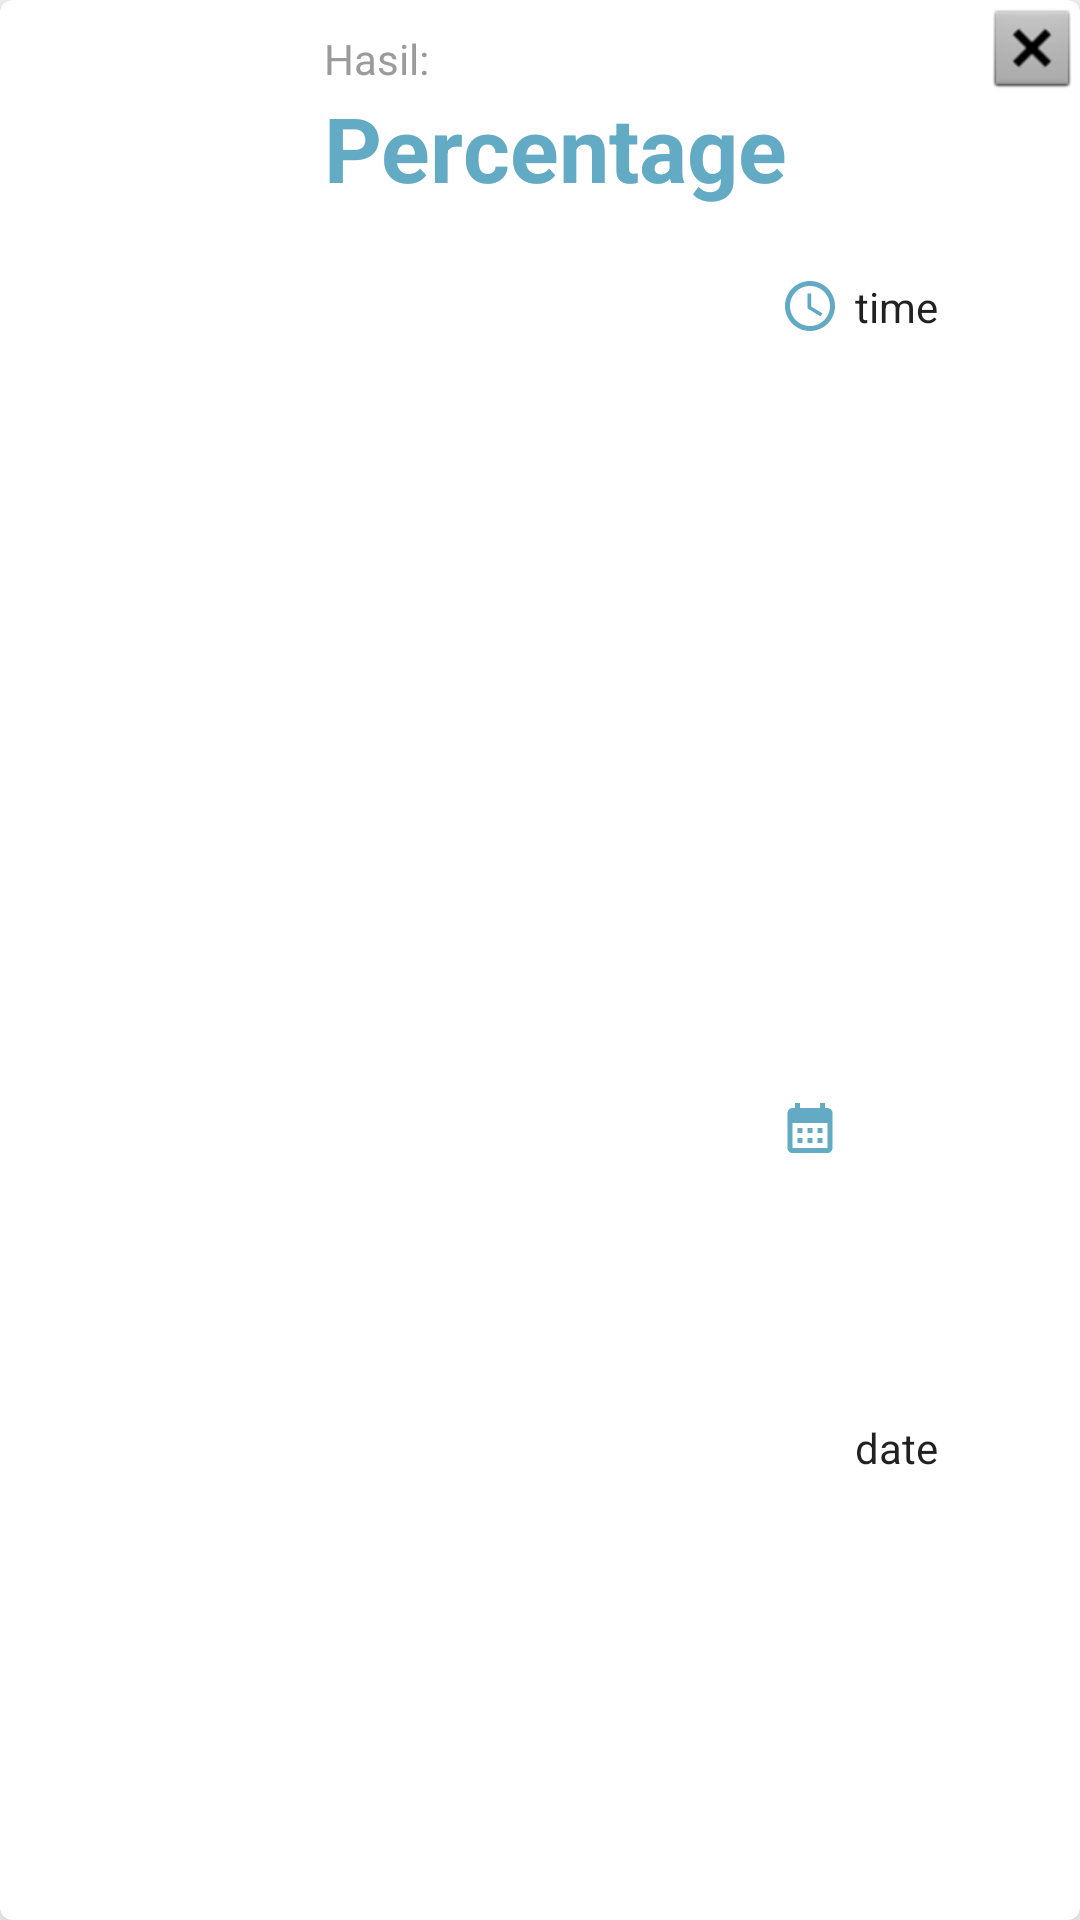

Where to tap for icons on this 1080 x 1920 app screen, as (x,y):
calendar month: (810,1128)
